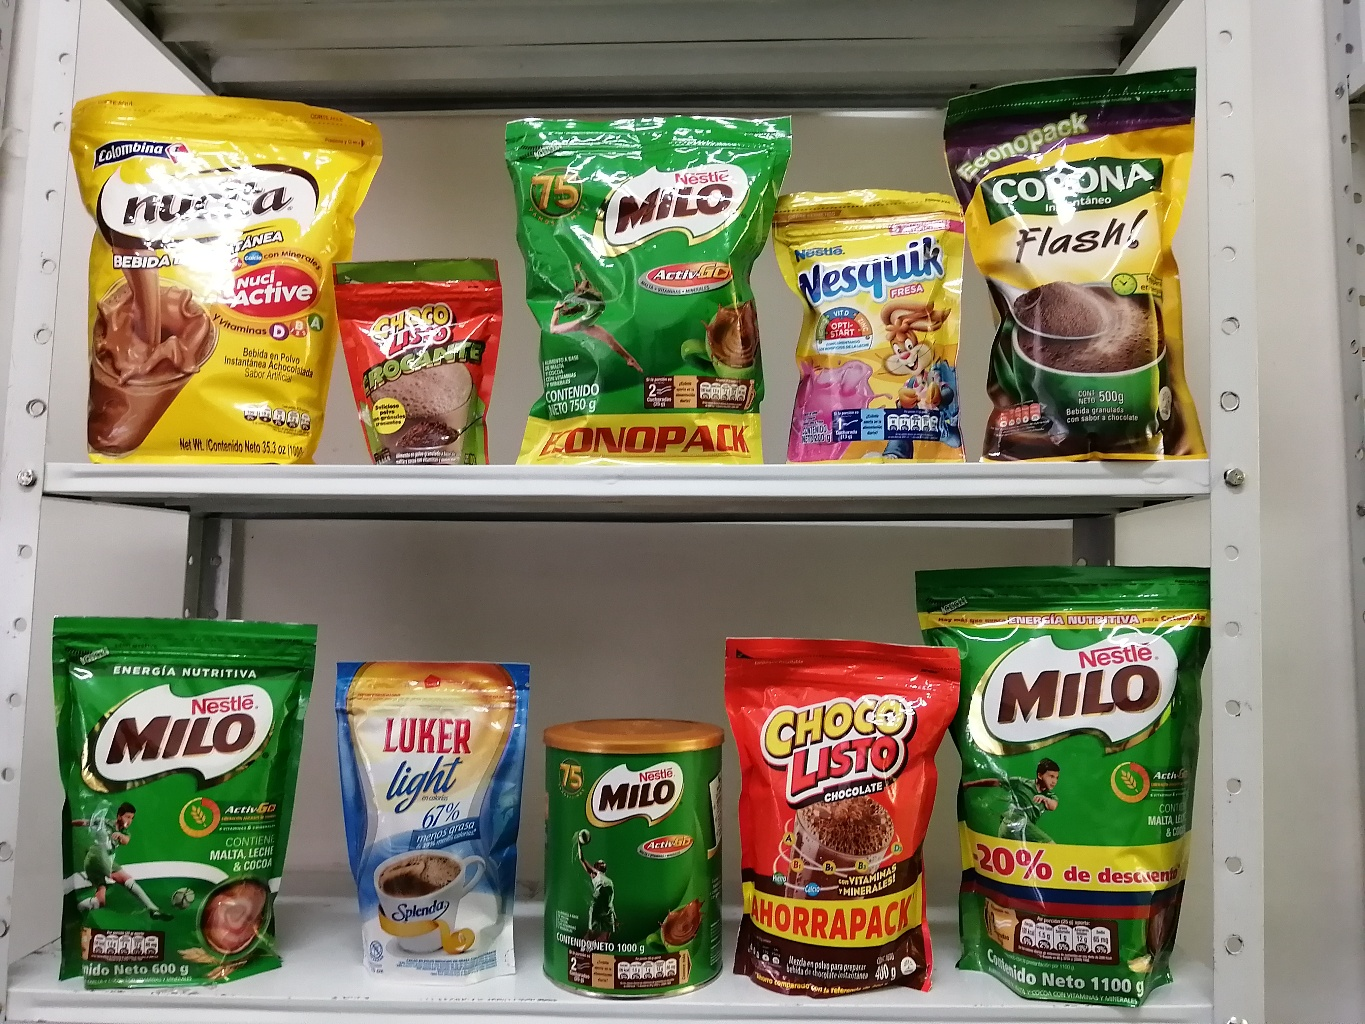COL0170102DYP10000: (330, 245, 504, 469)
COL0170103DYP40000: (731, 632, 962, 991)
COL0170305DYP20000: (772, 176, 989, 472)
